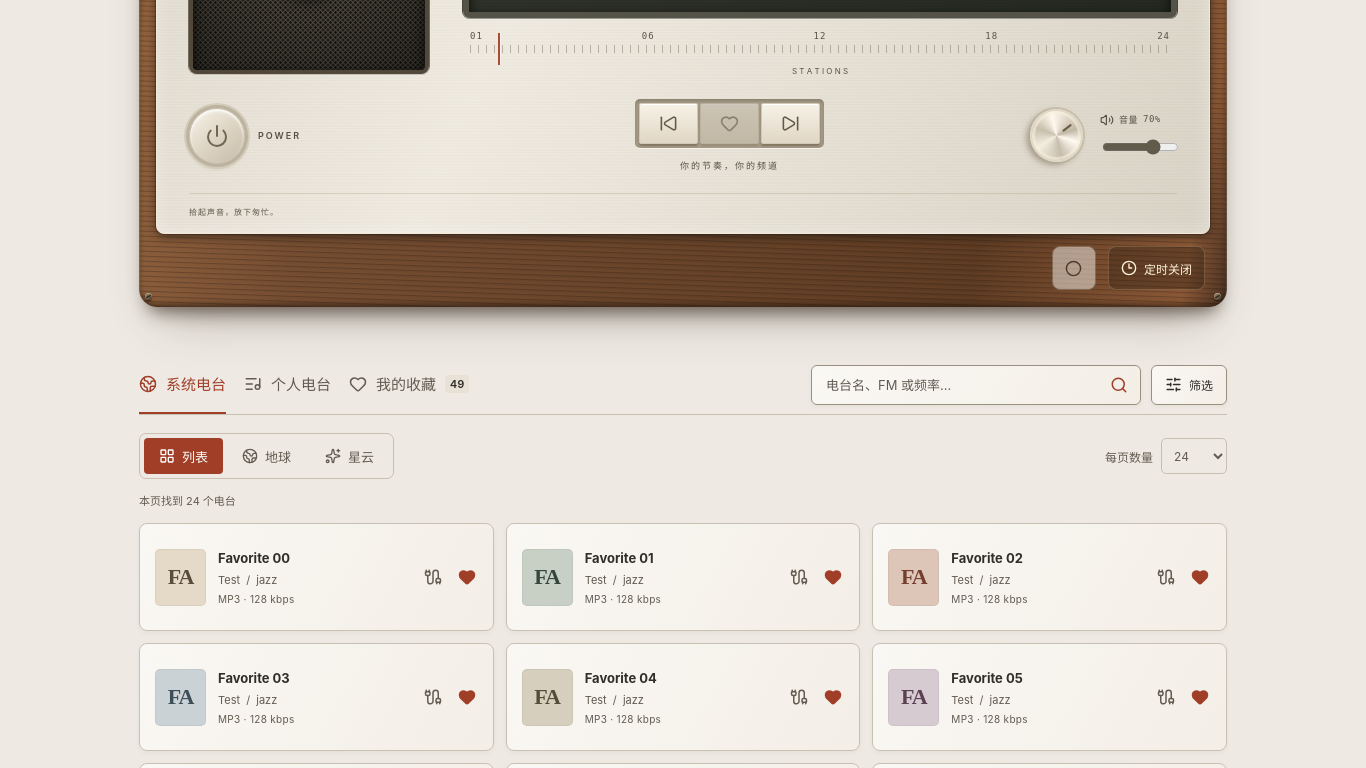
Test: resets search to the first page and searches the entire collection
(page scrolled)
expect the button with aria-label "收听 Favorite 00" is shown: met, box [155, 549, 417, 606]
Step 1. Click the tab "我的收藏 49" → {"x": 409, "y": 385}, box [349, 355, 469, 414]
(page scrolled)
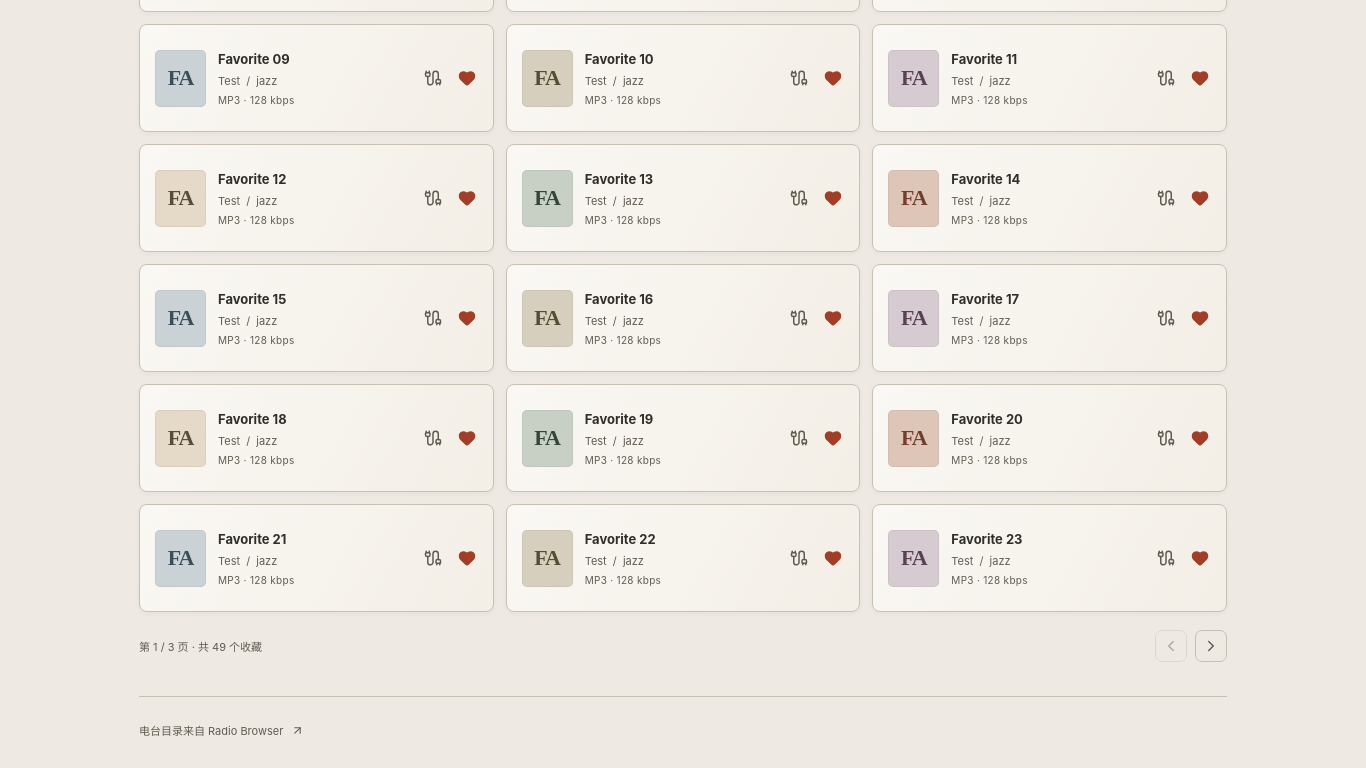
expect the text "第 1 / 3 页 · 共 49 个收藏" is shown: met, box [139, 638, 262, 654]
Step 2. Click the button named "下一页" → {"x": 1211, "y": 646}, box [1195, 630, 1227, 662]
(page scrolled)
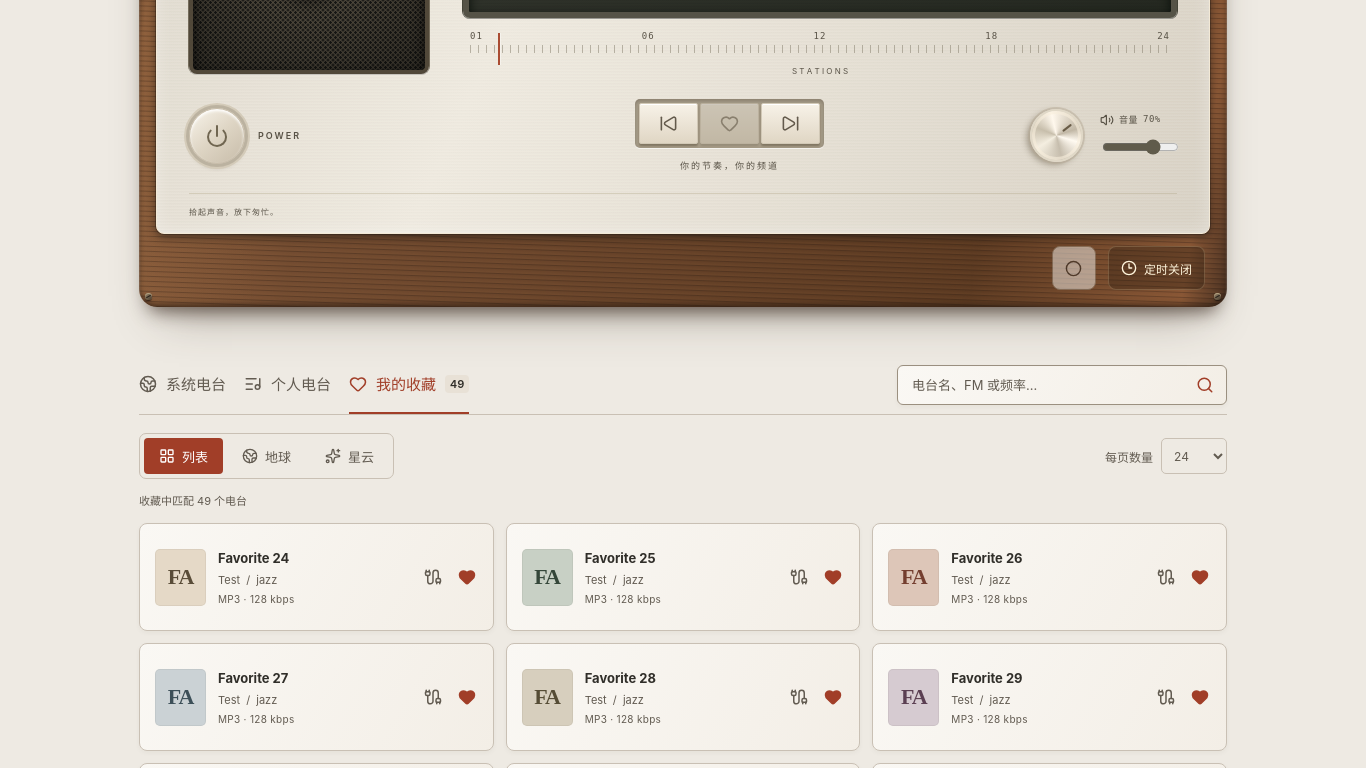
expect the button with aria-label "收听 Favorite 24" is shown: met, box [155, 549, 417, 606]
Step 3. Type "unique" into the field named "搜索电台" → {"x": 1046, "y": 385}, box [910, 376, 1183, 394]
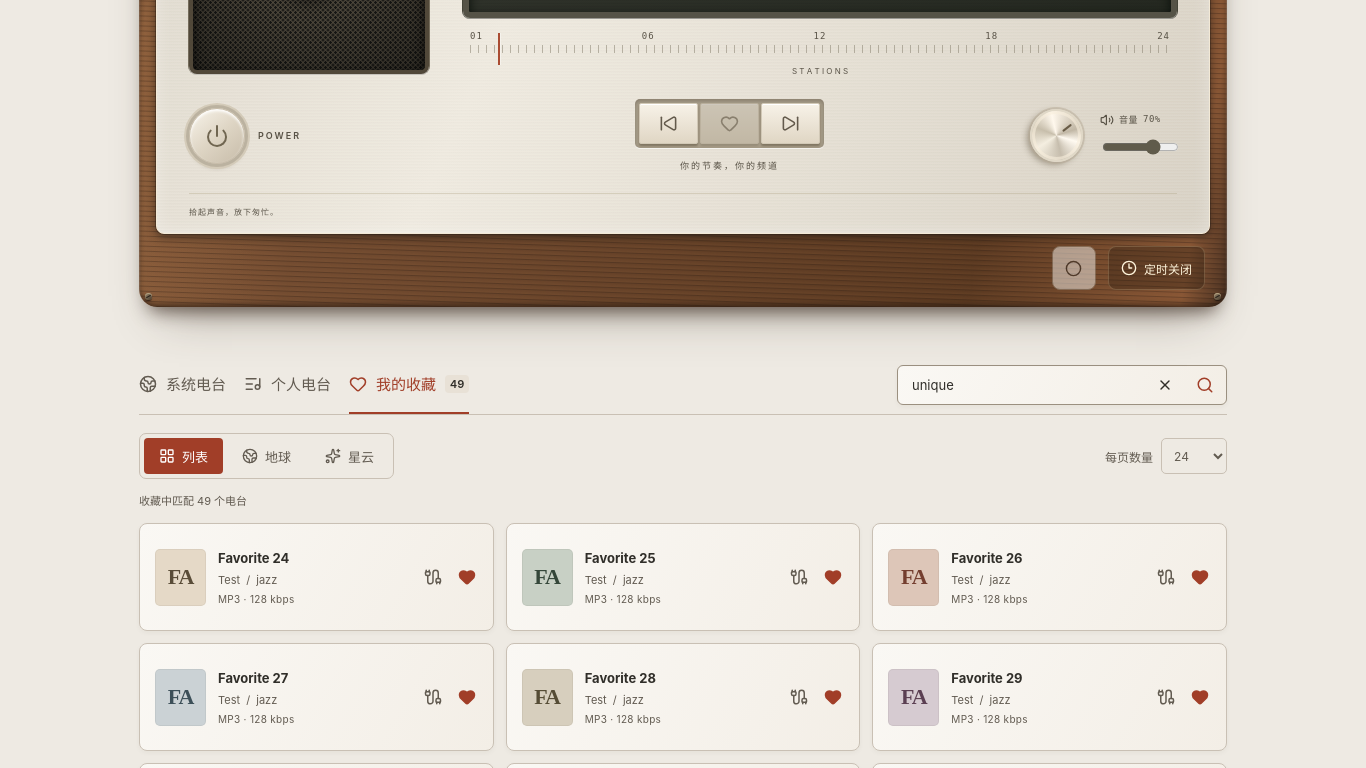
Step 4. Click the button named "立即搜索" → {"x": 1205, "y": 385}, box [1187, 367, 1223, 403]
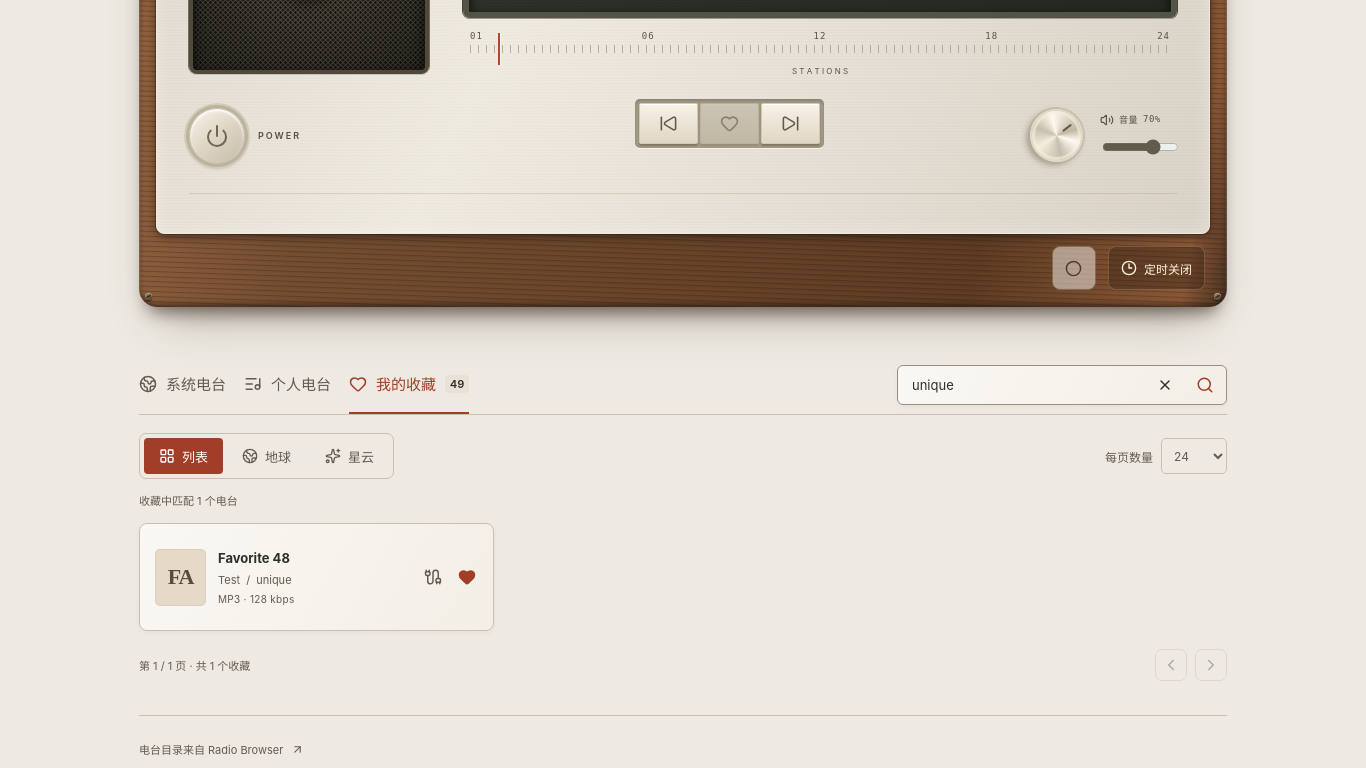
expect the button named "上一页" is disabled: met, box [1155, 649, 1187, 681]
expect the text "第 1 / 1 页 · 共 1 个收藏" is shown: met, box [139, 657, 250, 673]
expect the button with aria-label "收听 Favorite 48" is shown: met, box [155, 549, 417, 606]
